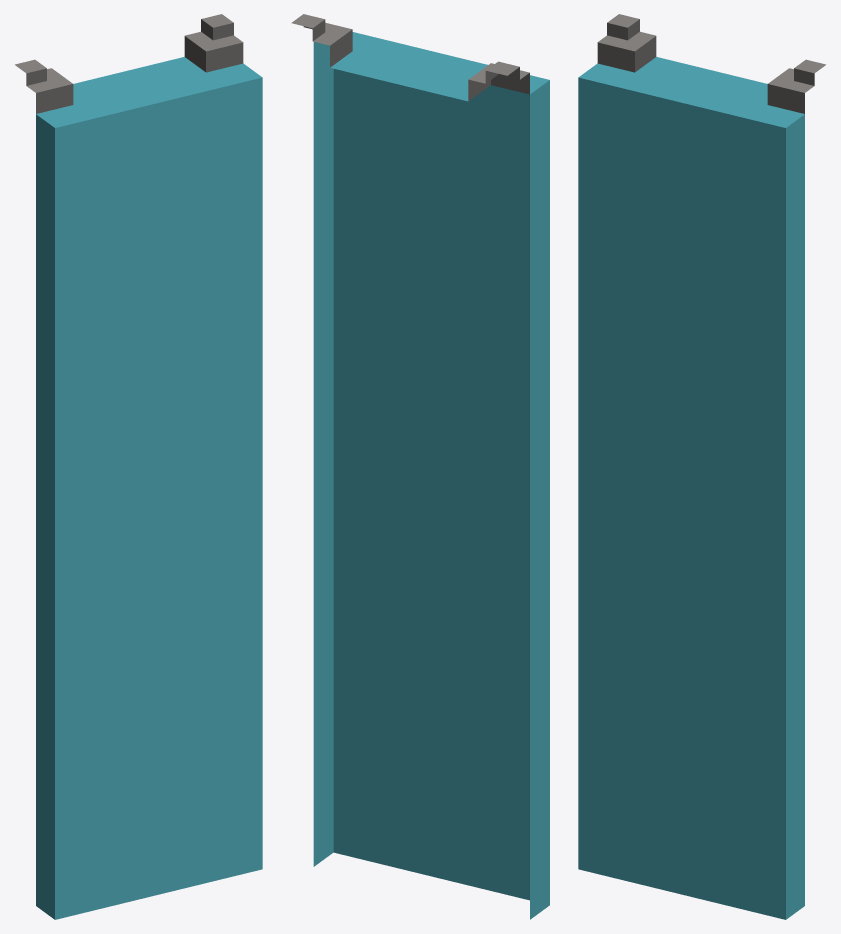
The model's file is SF_Bld_Elven_Stream_Fall_01.fbx.
3 views of the same model, side by side, from view 1: azimuth 30°, elevation 25°; view 2: azimuth 150°, elevation 25°; view 3: azimuth 330°, elevation 25° (orthographic). The views are drawn at different scales.
Visible parts, largest first — view 1: SF_Env_Elven_Stream_Fall_01; view 2: SF_Env_Elven_Stream_Fall_01; view 3: SF_Env_Elven_Stream_Fall_01.
Part boxes in pixels (x1,y1,x2,y2): SF_Env_Elven_Stream_Fall_01: (15,14,262,919); SF_Env_Elven_Stream_Fall_01: (291,14,549,919); SF_Env_Elven_Stream_Fall_01: (578,14,825,919).
Bounding box in the file's own units: 3 × 11.4 × 1.02.
